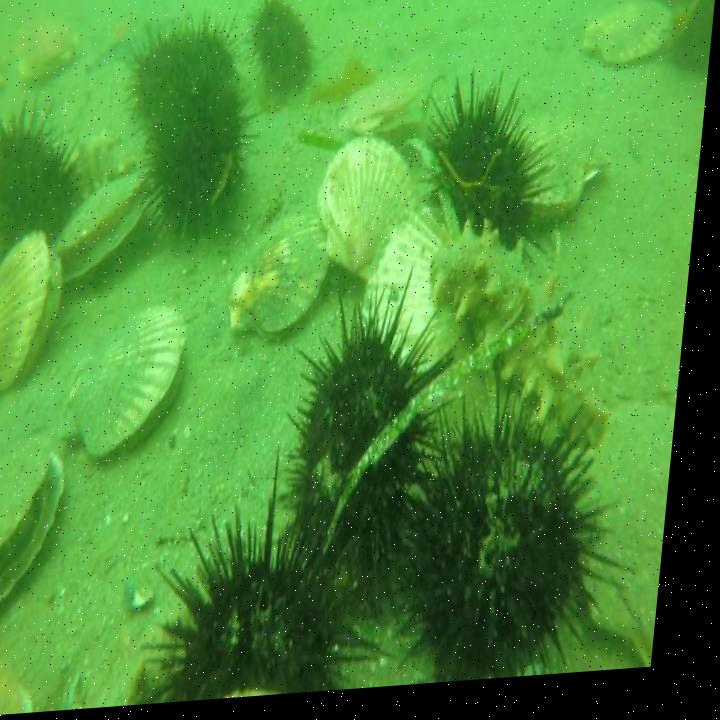echinus: (400, 365, 637, 692), (286, 272, 460, 626), (137, 497, 394, 709), (138, 58, 257, 249), (424, 74, 552, 243), (118, 7, 242, 142), (0, 97, 93, 249), (248, 0, 324, 115)
holothurian: (423, 207, 637, 464), (80, 0, 176, 82)
scallop: (563, 392, 685, 684), (71, 309, 199, 468), (314, 134, 432, 290), (0, 433, 82, 644), (46, 160, 169, 291), (363, 209, 460, 372), (232, 219, 341, 346), (0, 231, 72, 410), (525, 116, 619, 237), (579, 0, 684, 92), (338, 74, 427, 147), (11, 4, 82, 88), (0, 632, 63, 720), (641, 0, 720, 15)
